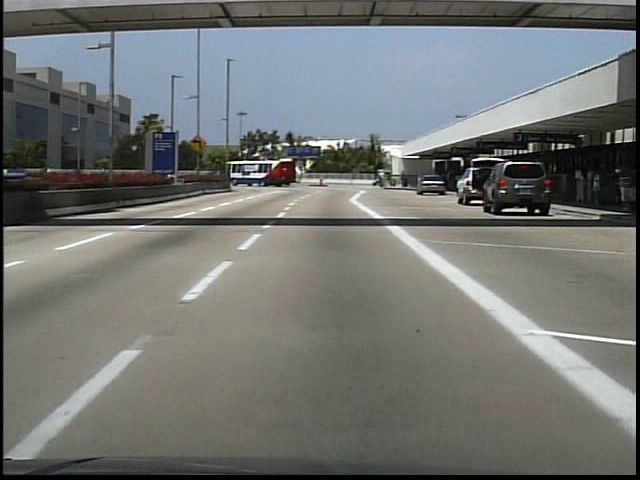person: (614, 164, 635, 212)
